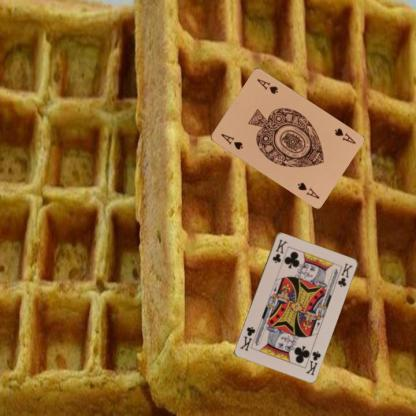As: (218, 131, 244, 151), (332, 125, 356, 145)
Kc: (303, 349, 322, 376), (270, 236, 288, 264)
